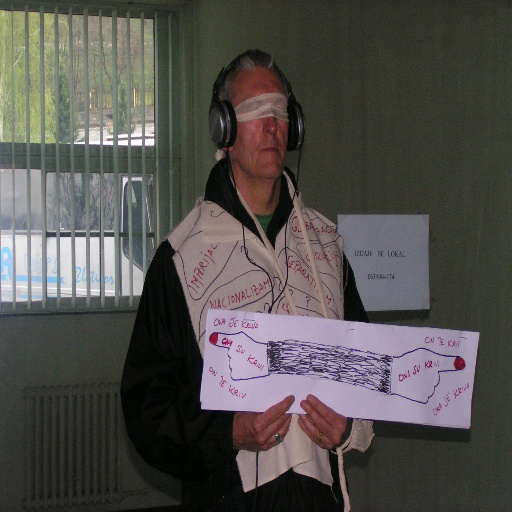hand: (233, 395, 295, 450), (300, 402, 353, 465)
